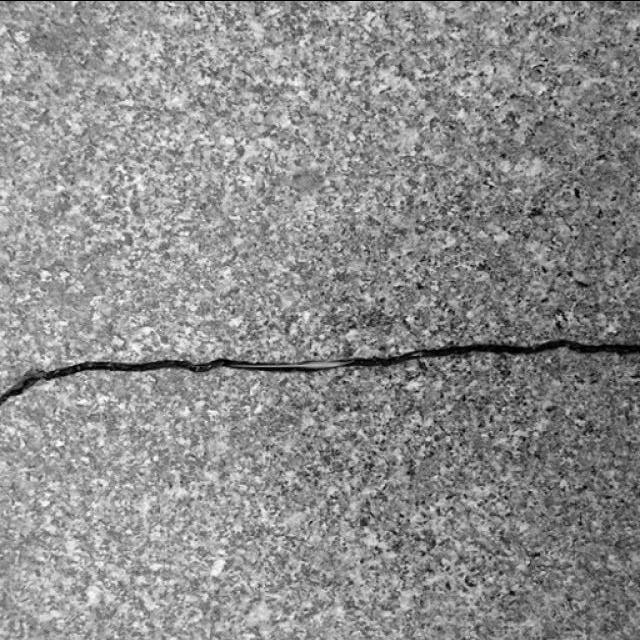SurfaceCrack: (0, 272, 639, 474)
